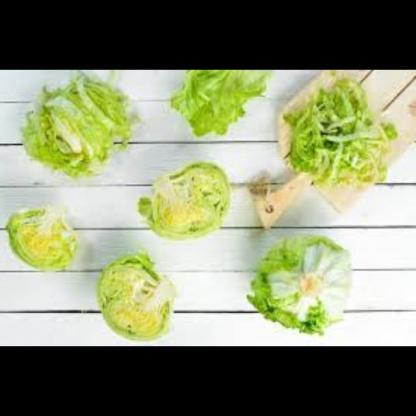salad: (17, 79, 140, 184), (283, 91, 400, 191), (254, 233, 358, 339), (138, 155, 234, 245), (97, 252, 182, 346), (173, 70, 266, 141), (5, 202, 83, 275)
